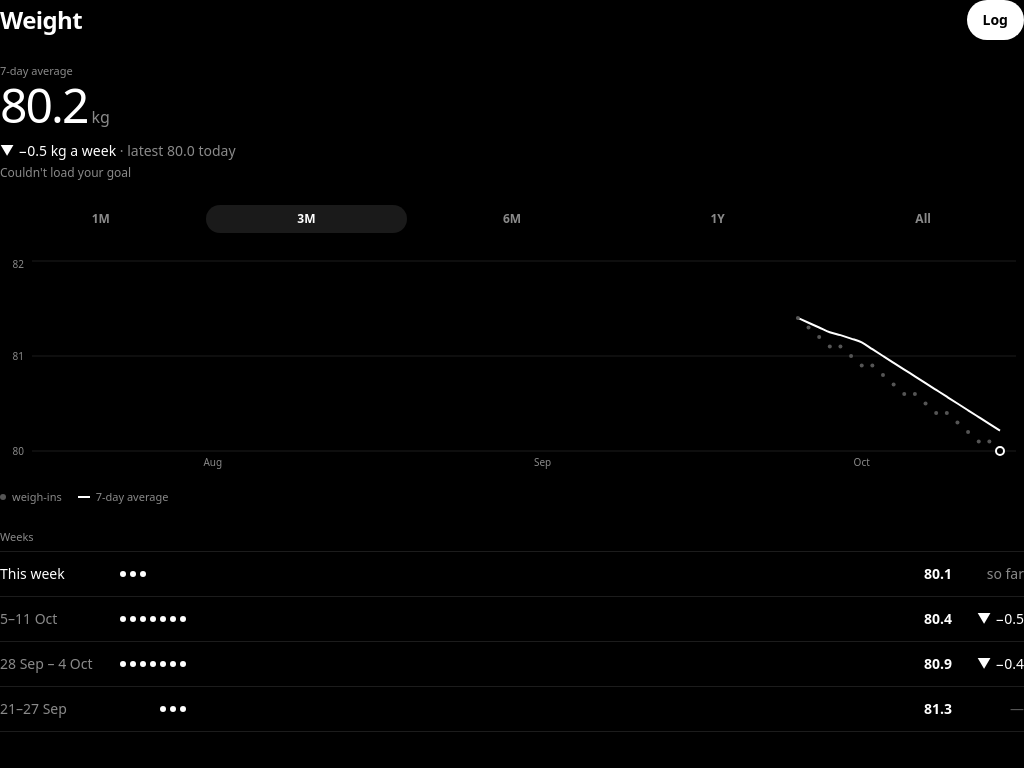
Test: Weight page › stays drawn, with an open sheet, when the signal returns and the goals start loading
Check: the text "Couldn't load your goal" is shown, box [0,164,131,181]
Step 1. Click the button "Log" → (995, 20), box [966,0,1023,40]
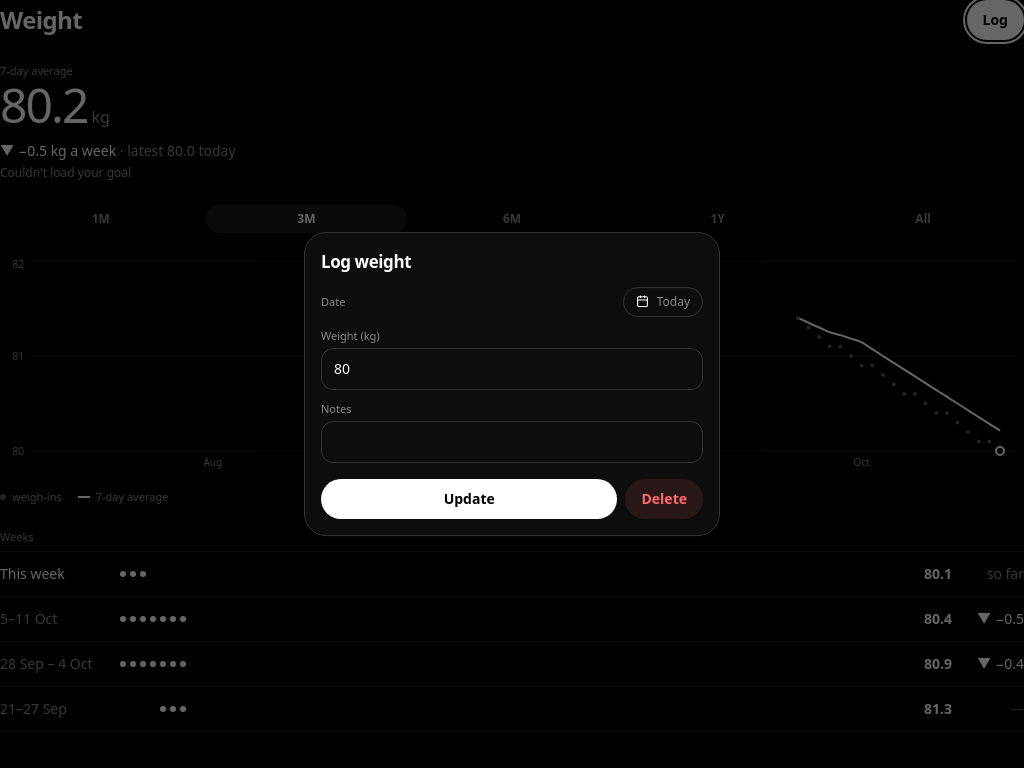
Step 2. Replace the text in the number field labelled "Weight (kg)" with "79.6" → (512, 369), box [321,348,703,390]
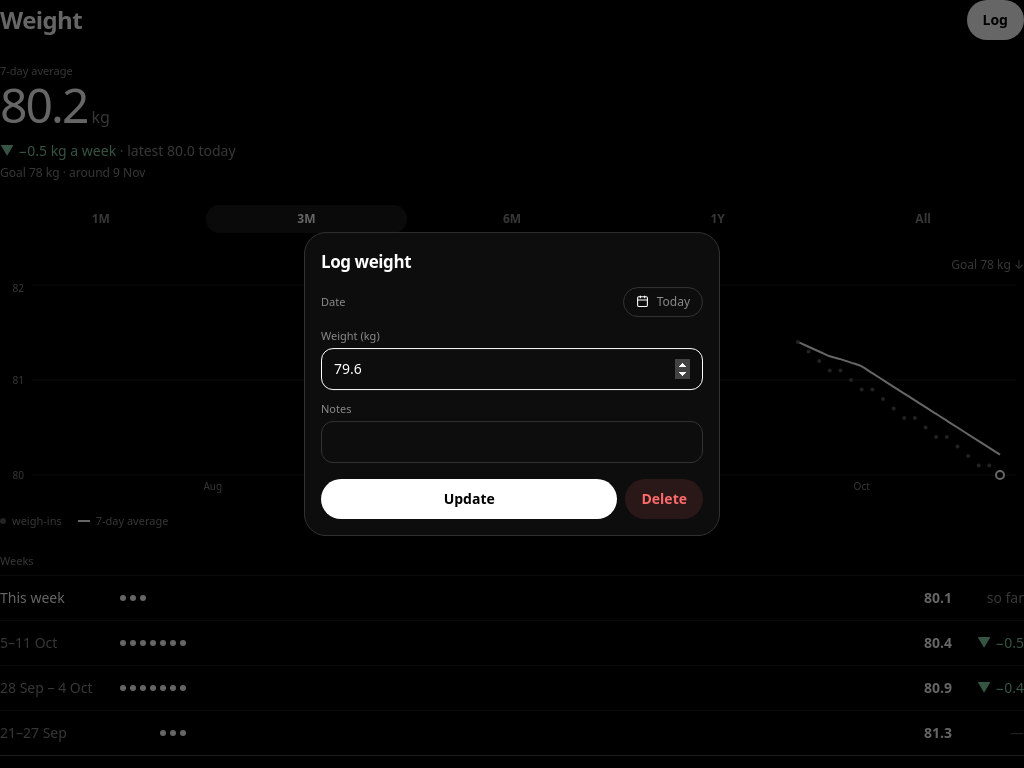
Check: the text "Goal 78 kg · around 9 Nov" is shown, box [0,164,145,181]
